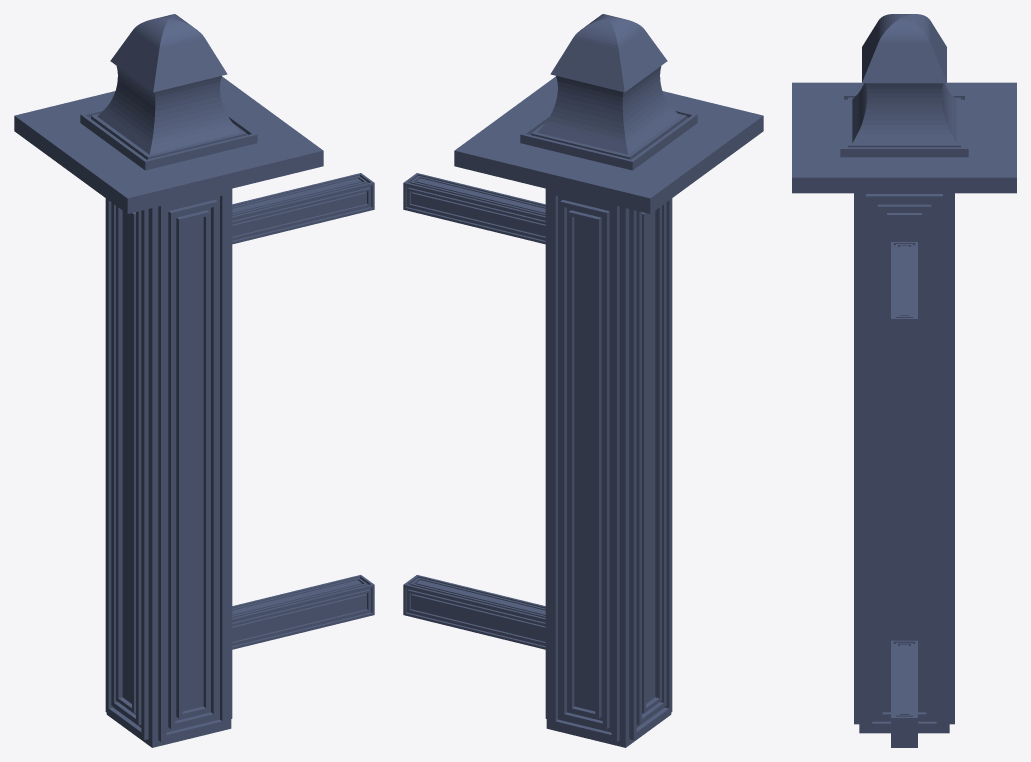
File: Çit tekli bağlama.fbx
3 renders of one model, left to right at view 1: azimuth 30°, elevation 25°; view 2: azimuth 150°, elevation 25°; view 3: azimuth 270°, elevation 25°, orthographic.
Visible parts, largest first — view 1: Plane.002; view 2: Plane.002; view 3: Plane.002.
Boxes of the visible parts, x1,y1,x2,y2 form: Plane.002: (14, 14, 374, 747); Plane.002: (403, 14, 763, 747); Plane.002: (792, 14, 1016, 747).
Bounding box in the file's own units: 282 × 639 × 186.
